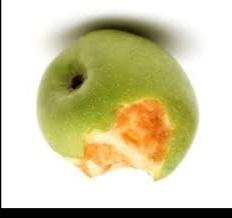rotten apple: (26, 27, 201, 189)
